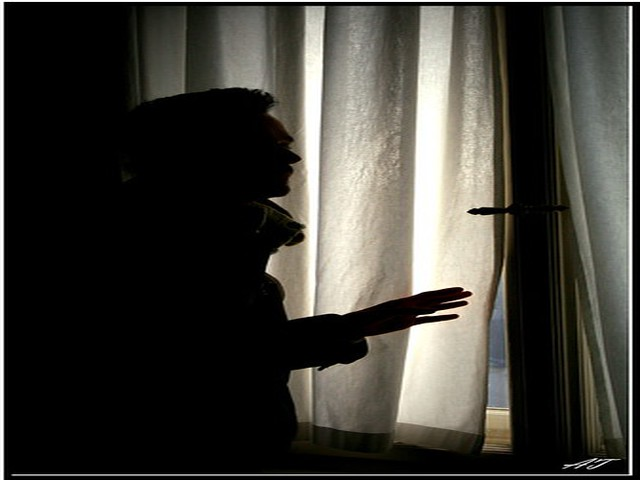Person: (125, 94, 469, 453)
